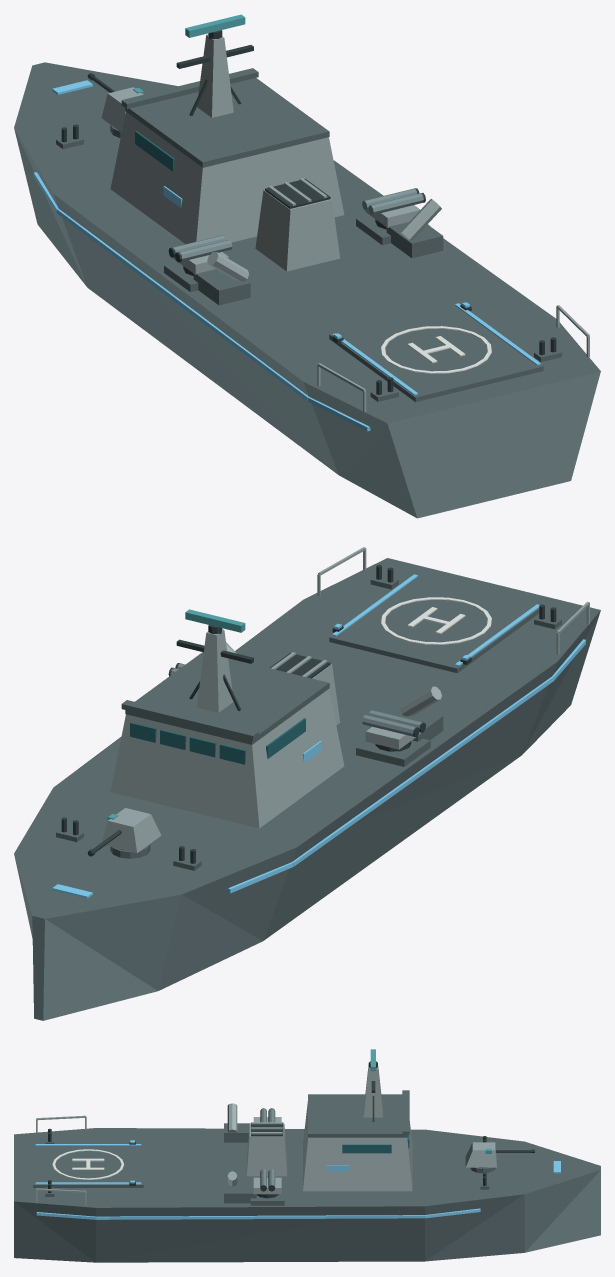
Rendered from ESC_ASW_T1.fbx.
3 renders of one model, top to bottom at view 1: azimuth 30°, elevation 25°; view 2: azimuth 150°, elevation 25°; view 3: azimuth 270°, elevation 25°, orthographic. The views are drawn at different scales.
Parts seen in each view (by area): view 1: ContinuousHull.004, Deckhouse.004, HelicopterDeck, Roof.004, FunnelEnclosure.004, NavMast, RoleHullStripe-1_1.004, DepthLauncherBase, DepthLauncherBase.001, BridgeBrow.004, LandingCircle, ExhaustGrille.004 (+4 smaller); view 2: ContinuousHull.004, Deckhouse.004, HelicopterDeck, Roof.004, NavMast, PrimaryGunCupola.004, RoleHullStripe-1_1.004, BridgeBrow.004, TorpedoFoot_P, LandingCircle, TorpedoCradle_P, NavRadar (+3 smaller); view 3: ContinuousHull.004, Deckhouse.004, HelicopterDeck, Roof.004, FunnelEnclosure.004, RoleHullStripe1_1.004, NavMast, PrimaryGunCupola.004, DepthLauncherBase.001, BridgeSideGlass1.004, DepthLauncherBase, LandingCircle (+5 smaller).
Part boxes in pixels (x1=…): ContinuousHull.004: x1=14, y1=62, x2=600, y2=518; Deckhouse.004: x1=110, y1=112, x2=344, y2=243; HelicopterDeck: x1=329, y1=304, x2=543, y2=402; Roof.004: x1=125, y1=78, x2=329, y2=167; FunnelEnclosure.004: x1=255, y1=190, x2=340, y2=271; NavMast: x1=197, y1=34, x2=233, y2=117; RoleHullStripe-1_1.004: x1=56, y1=208, x2=308, y2=400; DepthLauncherBase: x1=193, y1=269, x2=250, y2=305; DepthLauncherBase.001: x1=386, y1=222, x2=443, y2=258; BridgeBrow.004: x1=121, y1=68, x2=258, y2=109; LandingCircle: x1=381, y1=326, x2=491, y2=373; ExhaustGrille.004: x1=265, y1=179, x2=330, y2=208; ContinuousHull.004: x1=14, y1=558, x2=600, y2=1020; Deckhouse.004: x1=110, y1=689, x2=344, y2=828; HelicopterDeck: x1=329, y1=574, x2=539, y2=673; Roof.004: x1=125, y1=652, x2=329, y2=744; NavMast: x1=196, y1=629, x2=233, y2=712; PrimaryGunCupola.004: x1=102, y1=808, x2=161, y2=853; RoleHullStripe-1_1.004: x1=292, y1=676, x2=553, y2=866; BridgeBrow.004: x1=121, y1=700, x2=258, y2=740; TorpedoFoot_P: x1=356, y1=738, x2=430, y2=766; LandingCircle: x1=381, y1=597, x2=491, y2=644; TorpedoCradle_P: x1=365, y1=726, x2=420, y2=749; NavRadar: x1=185, y1=609, x2=245, y2=632; ContinuousHull.004: x1=14, y1=1128, x2=600, y2=1262; Deckhouse.004: x1=303, y1=1101, x2=412, y2=1191; HelicopterDeck: x1=33, y1=1145, x2=143, y2=1187; Roof.004: x1=308, y1=1094, x2=407, y2=1137; FunnelEnclosure.004: x1=247, y1=1123, x2=287, y2=1176; RoleHullStripe1_1.004: x1=96, y1=1215, x2=424, y2=1219; NavMast: x1=363, y1=1065, x2=382, y2=1117; PrimaryGunCupola.004: x1=465, y1=1142, x2=496, y2=1167; DepthLauncherBase.001: x1=224, y1=1184, x2=256, y2=1203; BridgeSideGlass1.004: x1=342, y1=1144, x2=391, y2=1153; DepthLauncherBase: x1=224, y1=1123, x2=250, y2=1142; LandingCircle: x1=52, y1=1149, x2=124, y2=1179.
Bounding box in the file's own units: 290 × 297 × 900.
